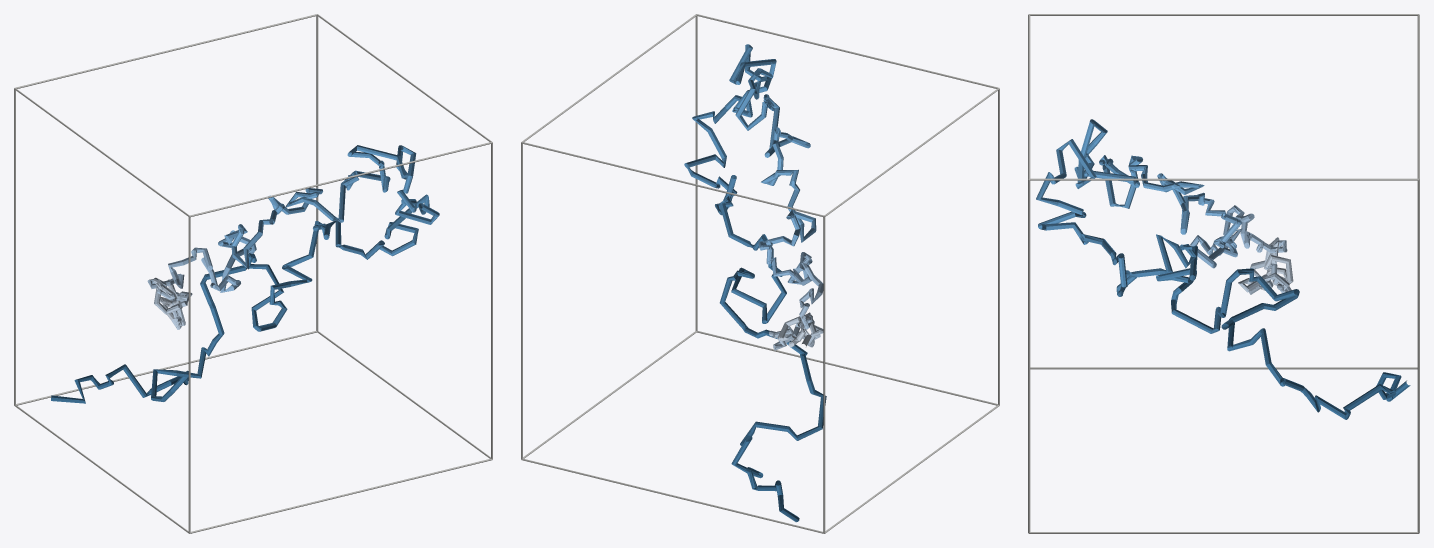
3 views of the same model, side by side, from view 1: azimuth 30°, elevation 25°; view 2: azimuth 150°, elevation 25°; view 3: azimuth 270°, elevation 25° (orthographic). The views are drawn at different scales.
Visible parts, largest first — view 1: geometry_0, geometry_1; view 2: geometry_0, geometry_1; view 3: geometry_0, geometry_1.
Boxes of the visible parts, left/top/right/bottom form: geometry_0: left=51, top=145, right=439, bottom=403; geometry_1: left=14, top=14, right=492, bottom=533; geometry_0: left=684, top=44, right=826, bottom=522; geometry_1: left=521, top=14, right=999, bottom=533; geometry_0: left=1036, top=119, right=1410, bottom=419; geometry_1: left=1028, top=14, right=1419, bottom=533.
Bounding box in the file's own units: 0.3016 × 0.3045 × 0.3016.
